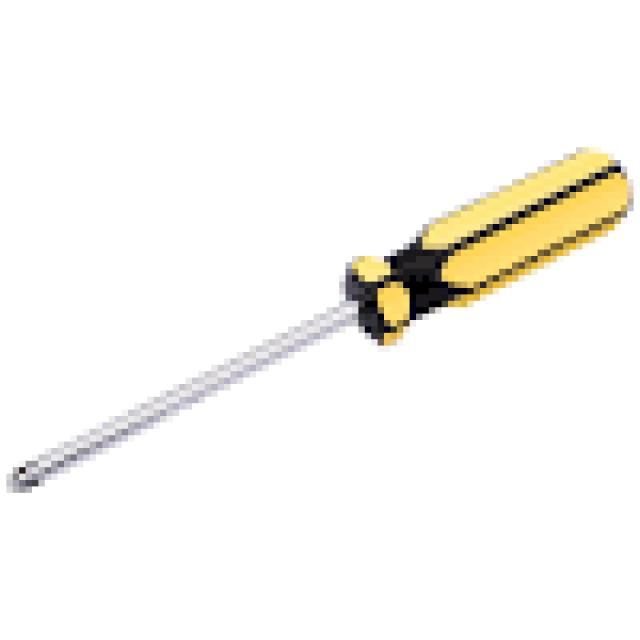Screwdriver: (8, 149, 630, 491)
